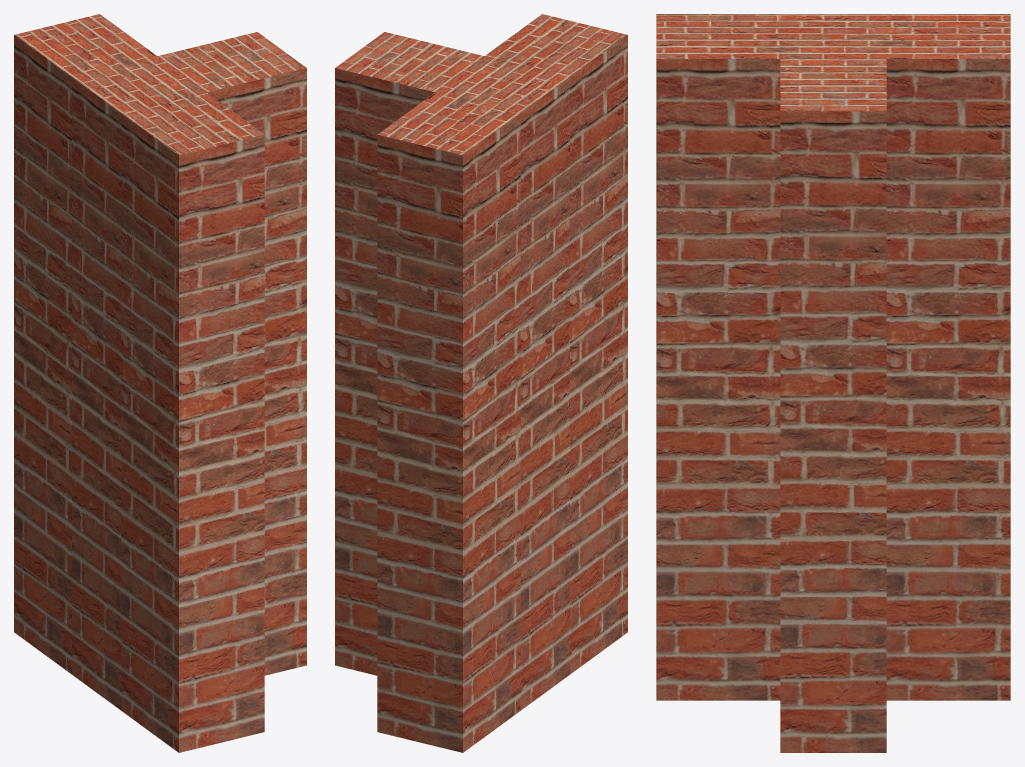
The model's file is wallT.fbx.
The picture shows the model from 3 angles, left to right: view 1: azimuth 30°, elevation 25°; view 2: azimuth 150°, elevation 25°; view 3: azimuth 270°, elevation 25°; orthographic projection. The views are drawn at different scales.
Parts seen in each view (by area): view 1: Cube; view 2: Cube; view 3: Cube.
Part boxes in pixels (left/top/right/bottom): Cube: left=14, top=14, right=306, bottom=752; Cube: left=335, top=14, right=627, bottom=752; Cube: left=656, top=14, right=1010, bottom=752.
Size of the model in its own units: 65 by 200 by 100.
